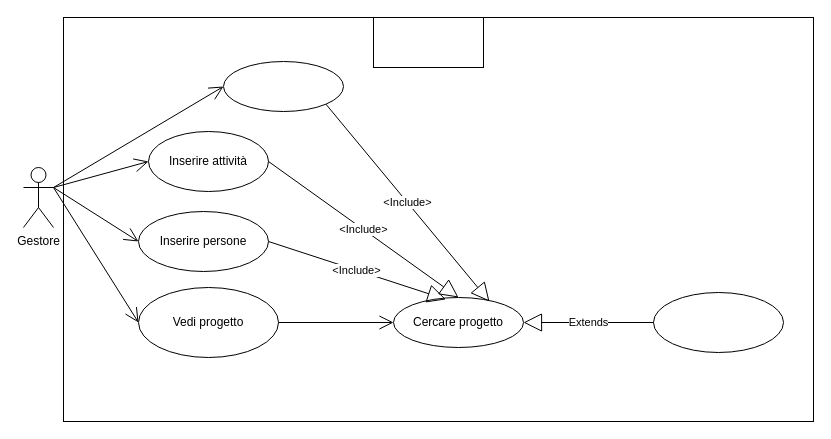
The diagram is 831 pixels wide and 439 high, and some of its shapes have lost their labels. Here are the shapes that lost their labels. From the top down, the centre of each, then its label:
At [428,42]: "Programma".
At [283,86]: "Creare progetto".
At [718,322]: "Inserire il nome del progetto da cercare".
